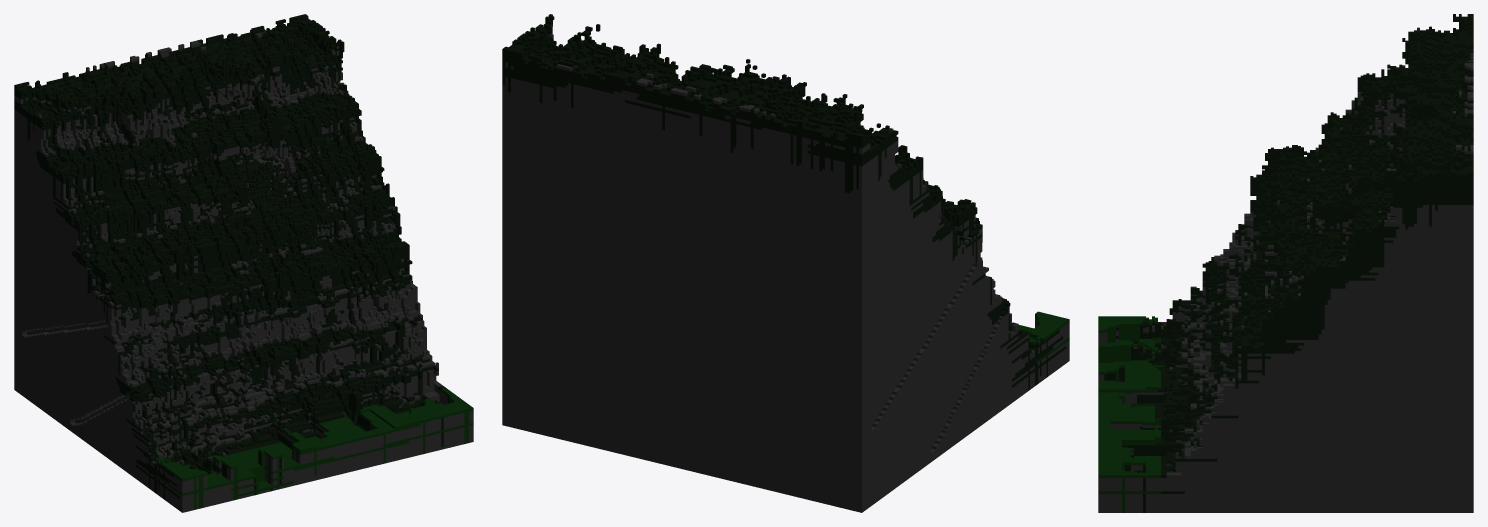
The model's file is map-55.obj.
The picture shows the model from 3 angles, left to right: view 1: azimuth 30°, elevation 25°; view 2: azimuth 150°, elevation 25°; view 3: azimuth 270°, elevation 25°; orthographic projection. The views are drawn at different scales.
Parts seen in each view (by area): view 1: map-55; view 2: map-55; view 3: map-55.
Part boxes in pixels (x1,y1,x2,y2): map-55: (14, 14, 473, 512); map-55: (502, 14, 1069, 512); map-55: (1098, 14, 1473, 512).
Bounding box in the file's own units: 126 × 126 × 126.
1 material, 1 textured.
